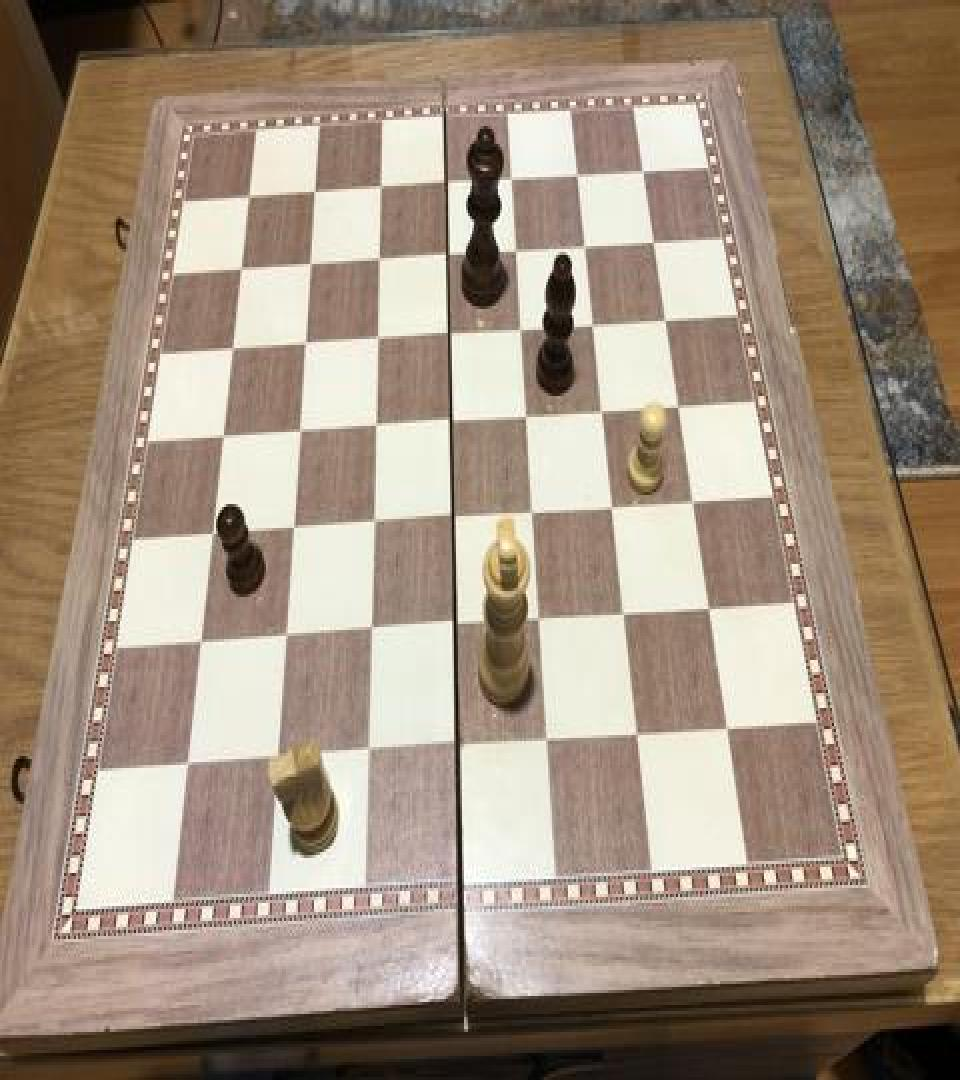xcorner: (526, 601, 550, 638), (353, 733, 377, 770), (263, 739, 287, 776), (631, 154, 655, 190), (565, 159, 589, 195), (500, 164, 524, 200), (434, 168, 458, 204), (302, 177, 326, 213), (236, 182, 260, 218), (642, 225, 666, 261), (573, 230, 597, 266), (504, 234, 528, 270), (435, 240, 459, 276), (366, 244, 390, 280), (297, 249, 321, 285), (228, 254, 252, 290), (654, 303, 678, 339), (581, 308, 605, 344), (509, 314, 533, 350), (436, 318, 460, 354), (364, 322, 388, 358), (291, 327, 315, 363), (219, 333, 243, 369), (667, 388, 691, 424), (590, 394, 614, 430), (514, 399, 538, 435), (438, 405, 462, 441), (362, 410, 386, 446), (285, 414, 309, 450), (209, 420, 233, 456), (681, 484, 705, 520), (600, 490, 624, 526), (520, 495, 544, 531), (439, 501, 463, 537), (359, 506, 383, 542), (279, 512, 303, 548), (198, 516, 222, 552), (697, 591, 721, 627), (612, 597, 636, 633), (441, 608, 465, 644), (356, 614, 380, 650), (271, 620, 295, 656), (186, 624, 210, 660), (715, 711, 739, 747), (624, 717, 648, 753), (534, 723, 558, 759), (443, 729, 467, 765), (173, 746, 197, 782), (368, 173, 392, 208)
